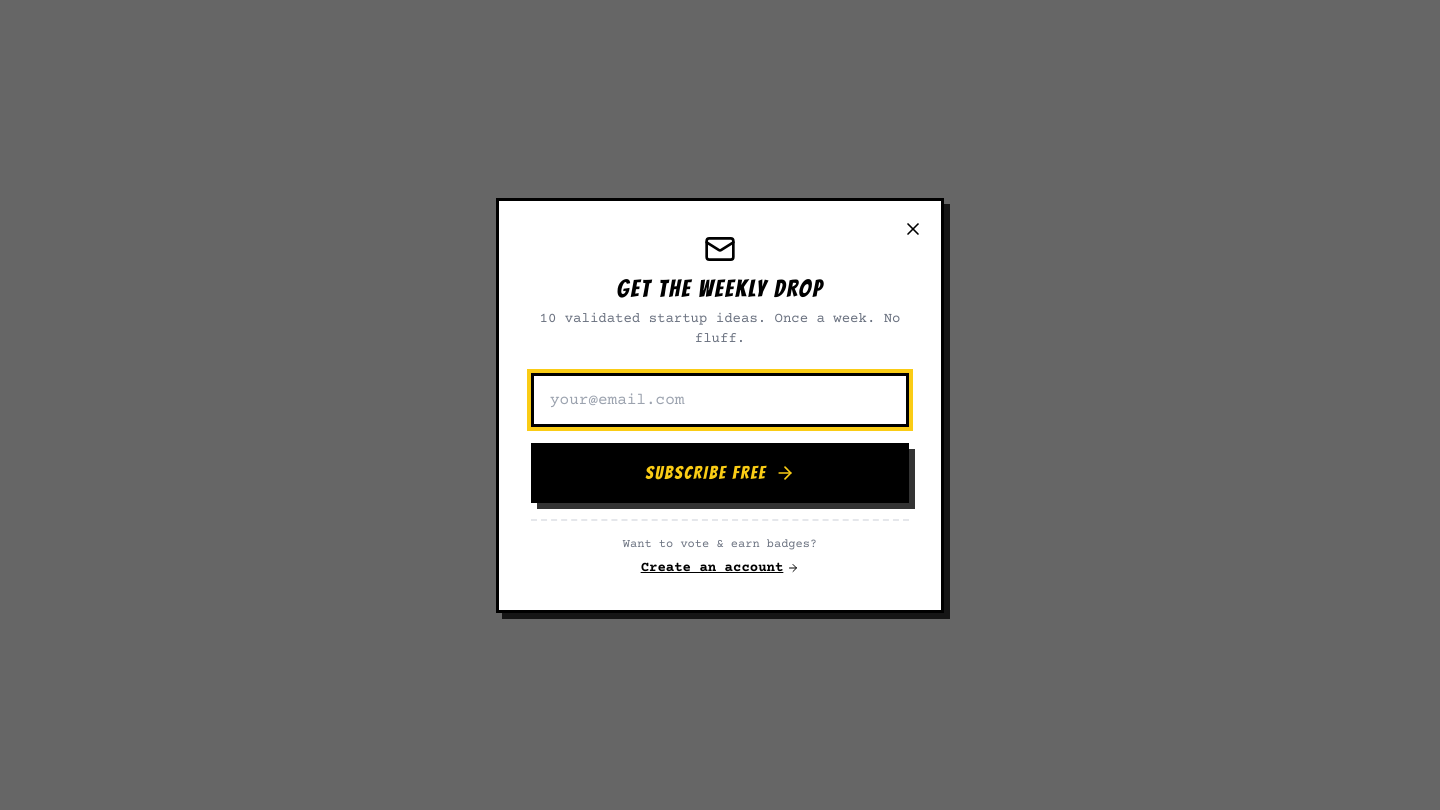
Test case: SubscribeModal › shows success state after successful subscription
Step 1. Type "test@example.com" into the field with placeholder "your@email.com" → coordinates (720, 400), box [531,372,909,426]
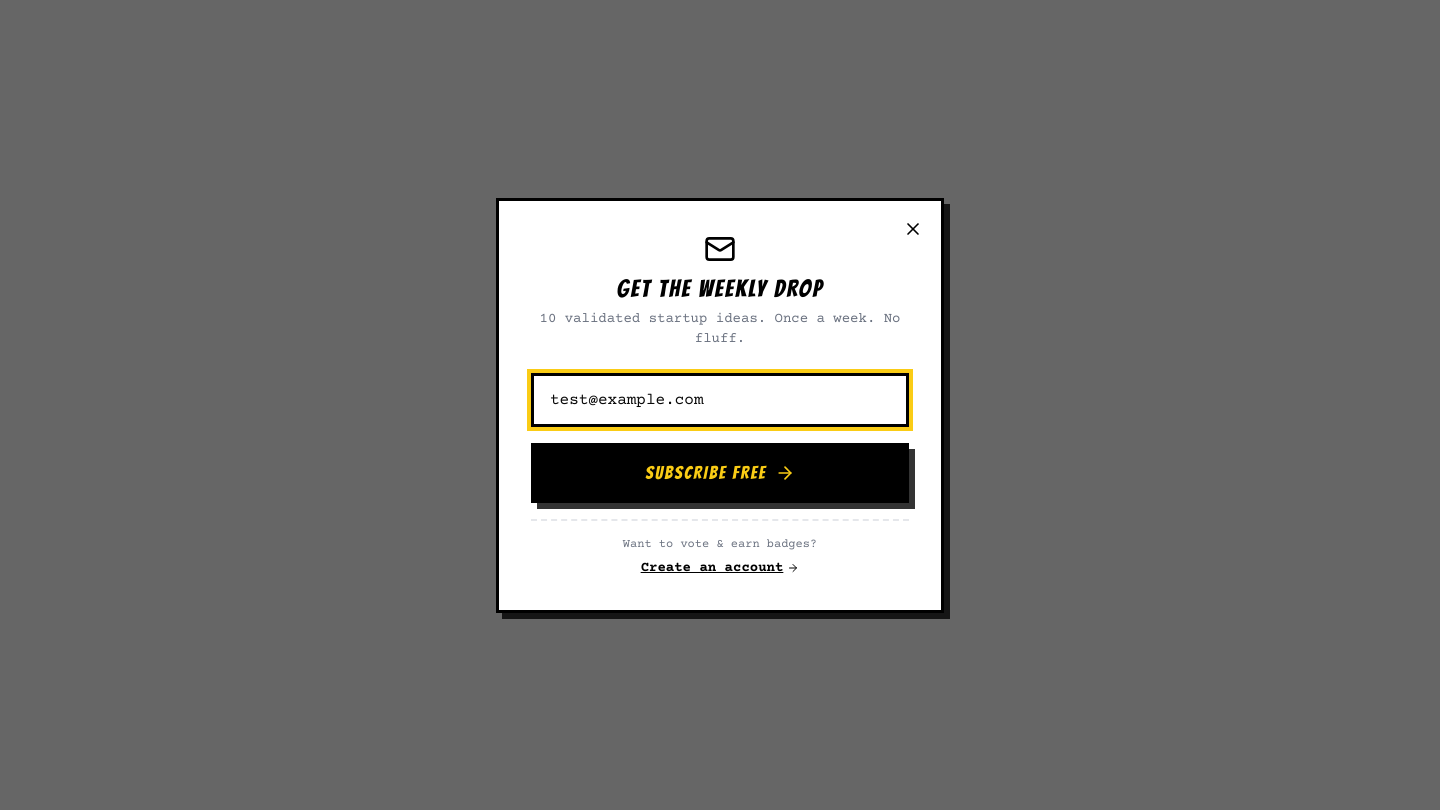
Step 2. Click the button "SUBSCRIBE FREE" → coordinates (720, 472), box [531,442,909,502]
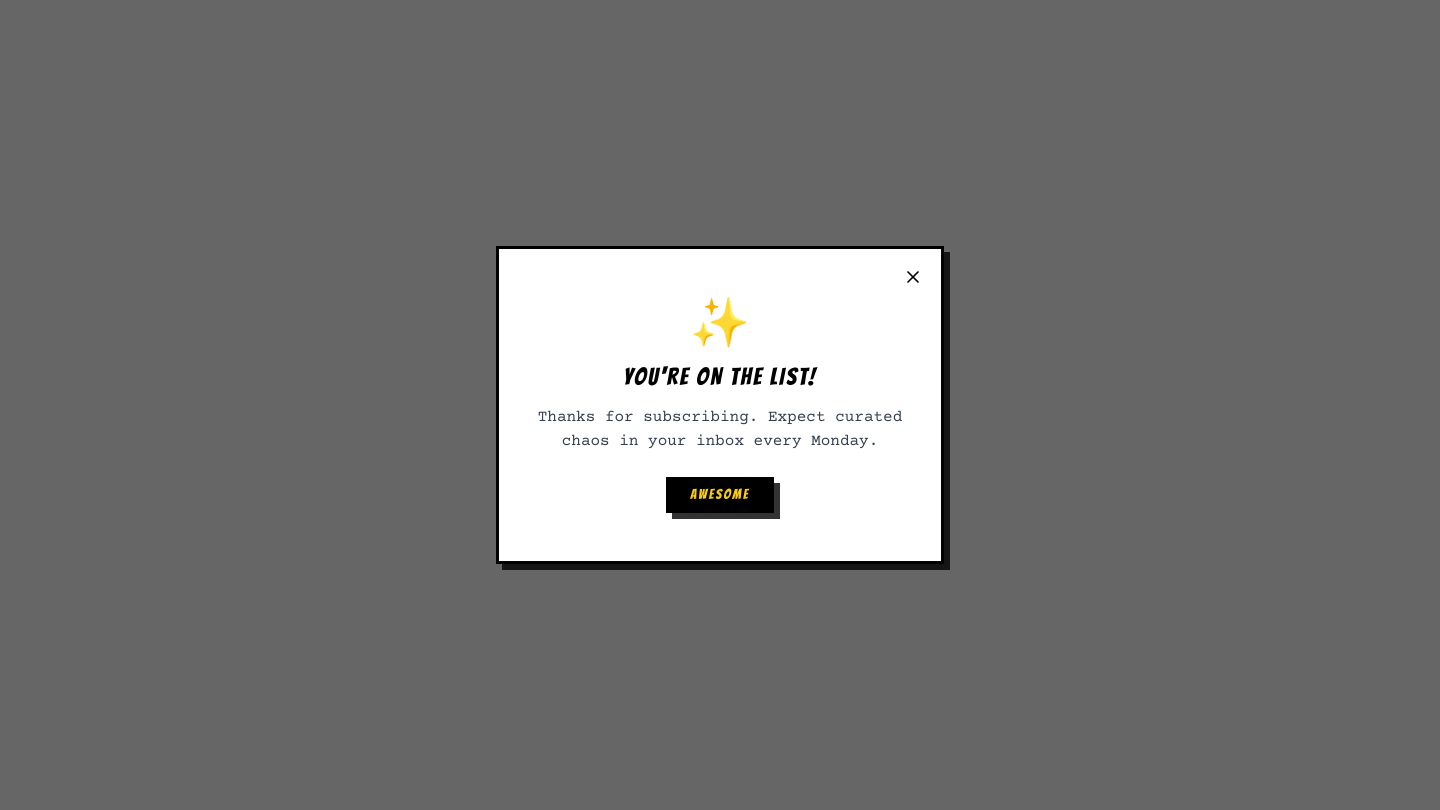
expect the heading "YOU'RE ON THE LIST!" is shown: met, box [623,364,817,389]
